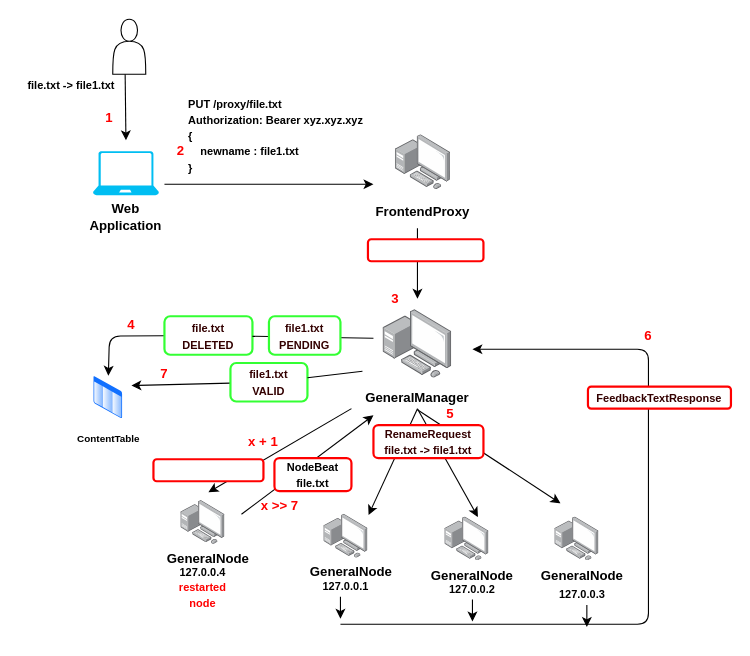
Some shapes in this 750 by 656 pixel diagram are drawn without their labels. The shapes that lost their labels are listed below. From the top down, each one's centre as x and y in pixels, then its label:
At (x=129, y=46): "User".
At (x=425, y=250): "RenameFileRequest".
At (x=208, y=470): "DeleteRequest".
